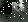person: (14, 4, 19, 16), (20, 2, 24, 15)
